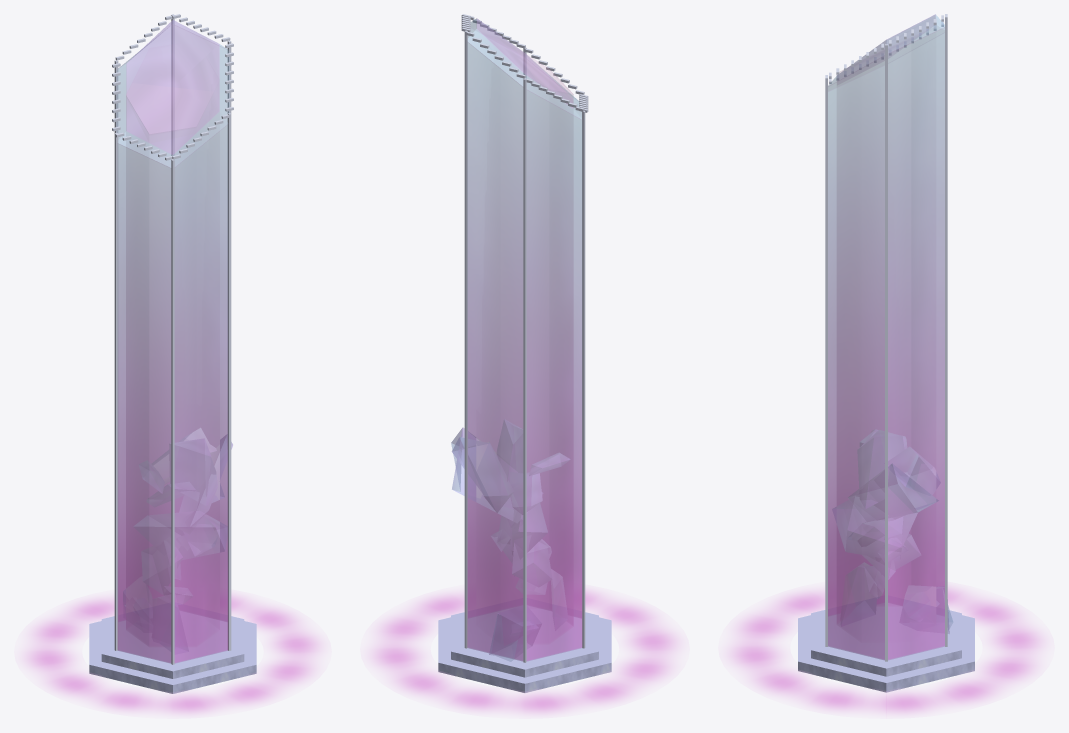
File: pillar.glb
The picture shows the model from 3 angles, left to right: view 1: azimuth 30°, elevation 25°; view 2: azimuth 150°, elevation 25°; view 3: azimuth 270°, elevation 25°; orthographic projection. The views are drawn at different scales.
Parts seen in each view (by area): view 1: Glass, GlassInner, Light, Plinth, Edges, Shard13, Shard10, Shard6, Shard11; view 2: Glass, GlassInner, Light, Plinth, Edges, Shard7, Shard0, Shard11, Shard13, Shard10, Shard6, Shard5; view 3: Glass, GlassInner, Light, Plinth, Edges, Shard11, Shard10, Shard13, Shard7, Shard4, Shard0.
Part boxes in pixels (x1,y1,x2,y2): Glass: (116,20,229,663); GlassInner: (126,83,201,628); Light: (18,591,327,716); Plinth: (89,610,256,693); Edges: (112,14,233,664); Shard13: (169,438,224,502); Shard10: (134,512,227,559); Shard6: (142,541,182,594); Shard11: (180,435,232,527); Glass: (467,18,582,661); GlassInner: (515,48,573,625); Light: (364,586,685,716); Plinth: (438,605,611,692); Edges: (461,14,588,662); Shard7: (452,437,513,512); Shard0: (489,606,541,661); Shard11: (451,427,542,520); Shard13: (497,419,522,487); Shard10: (499,503,547,562); Shard6: (512,541,551,586); Shard5: (510,472,542,514); Glass: (828,14,944,660); GlassInner: (837,44,897,623); Light: (722,583,1050,717); Plinth: (798,597,974,692); Edges: (825,14,947,661); Shard11: (848,463,938,519); Shard10: (832,500,917,560); Shard13: (857,430,904,508); Shard7: (888,447,940,494); Shard4: (841,562,876,626); Shard0: (899,586,952,633).
Size of the model in its own units: 11.2 by 23.76 by 11.2.
5 materials, 5 textured.
